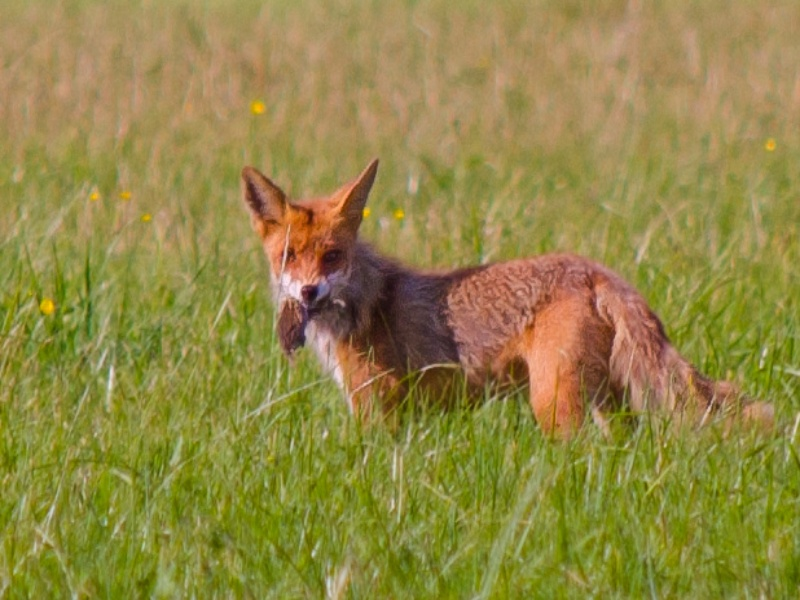fox: (236, 155, 778, 447)
